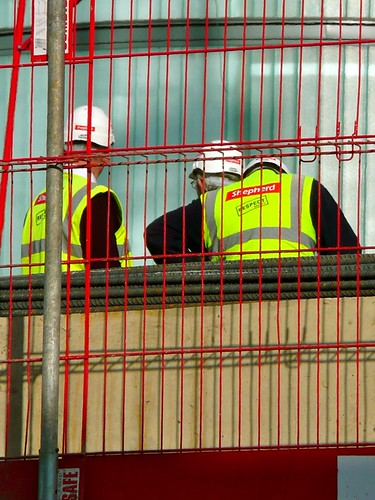person hardhat: (150, 156, 375, 261), (26, 96, 143, 280), (189, 135, 249, 214)
